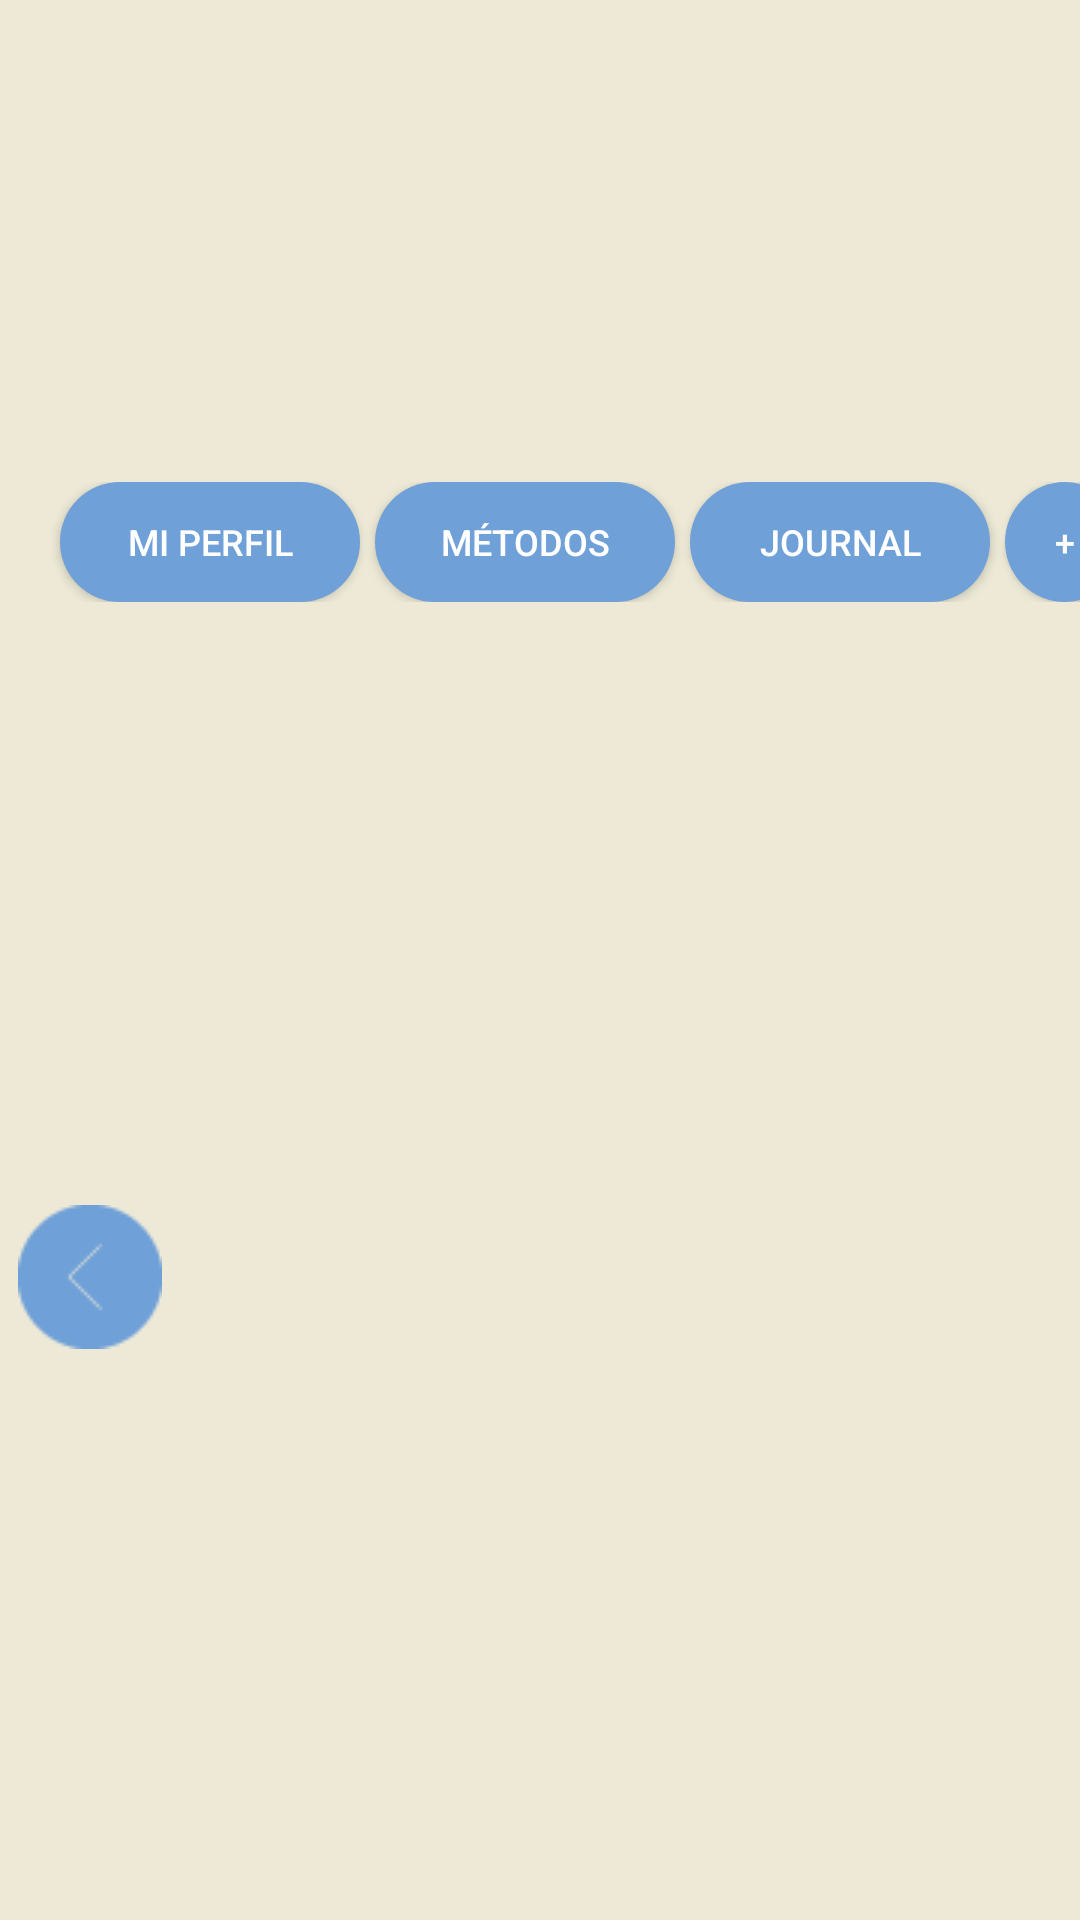

Icon bounding boxes for this 1080 x 1920 phone screenshot, format BBox(x1, y1, x2, y2):
regresar: BBox(18, 1205, 162, 1349)
